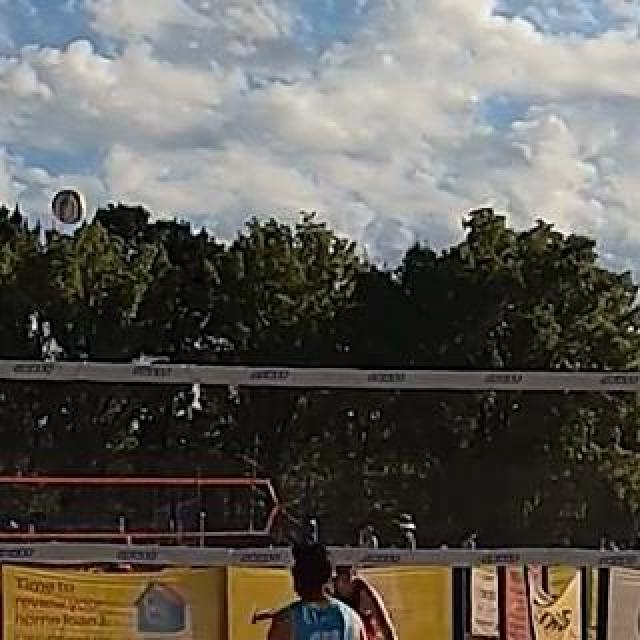volleyball: (51, 191, 89, 227)
